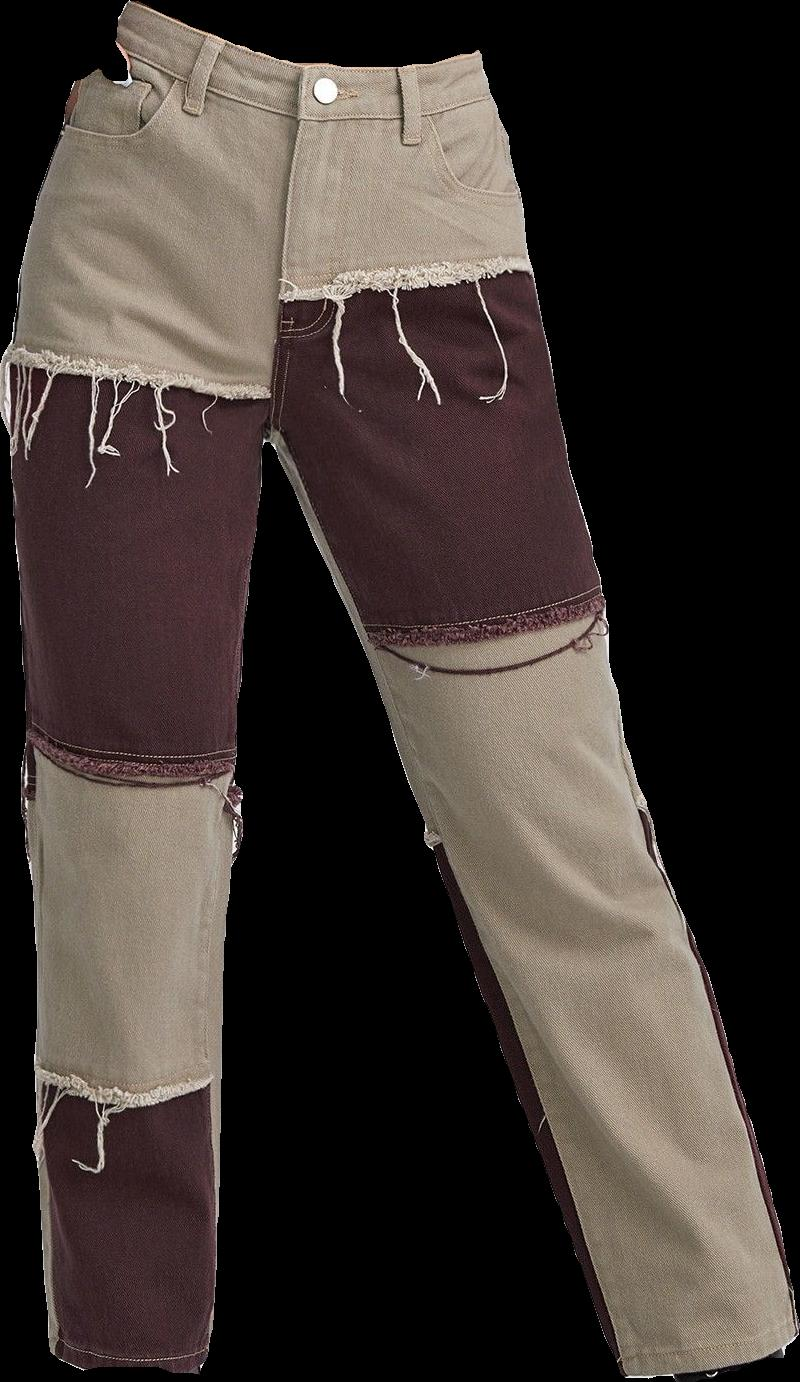Hemline: (620, 1321, 799, 1381), (46, 1342, 209, 1378)
Pantleg: (268, 52, 799, 1379), (0, 2, 301, 1372)
Waistline: (108, 33, 497, 128), (127, 0, 488, 82), (4, 339, 268, 396), (352, 586, 605, 643), (18, 720, 238, 781), (276, 254, 531, 301), (27, 1056, 220, 1108)
